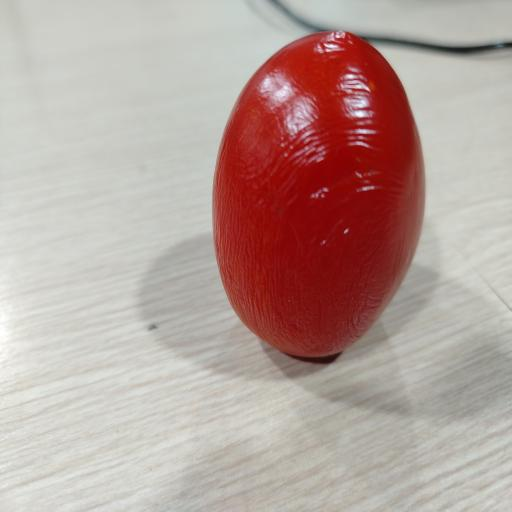spoiled: (213, 32, 425, 357)
